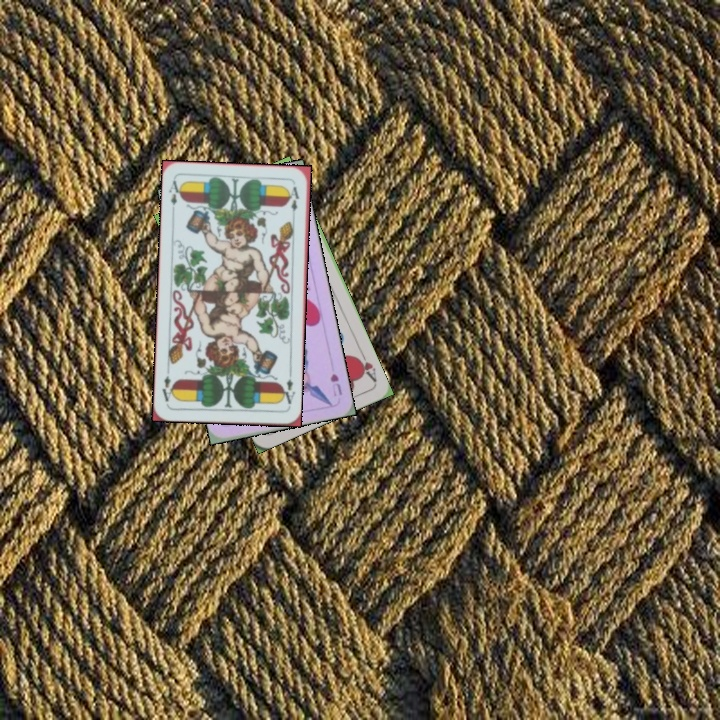EA: (164, 176, 184, 216), (277, 375, 297, 410)
HA: (351, 346, 379, 385)
HU: (326, 370, 345, 399)
